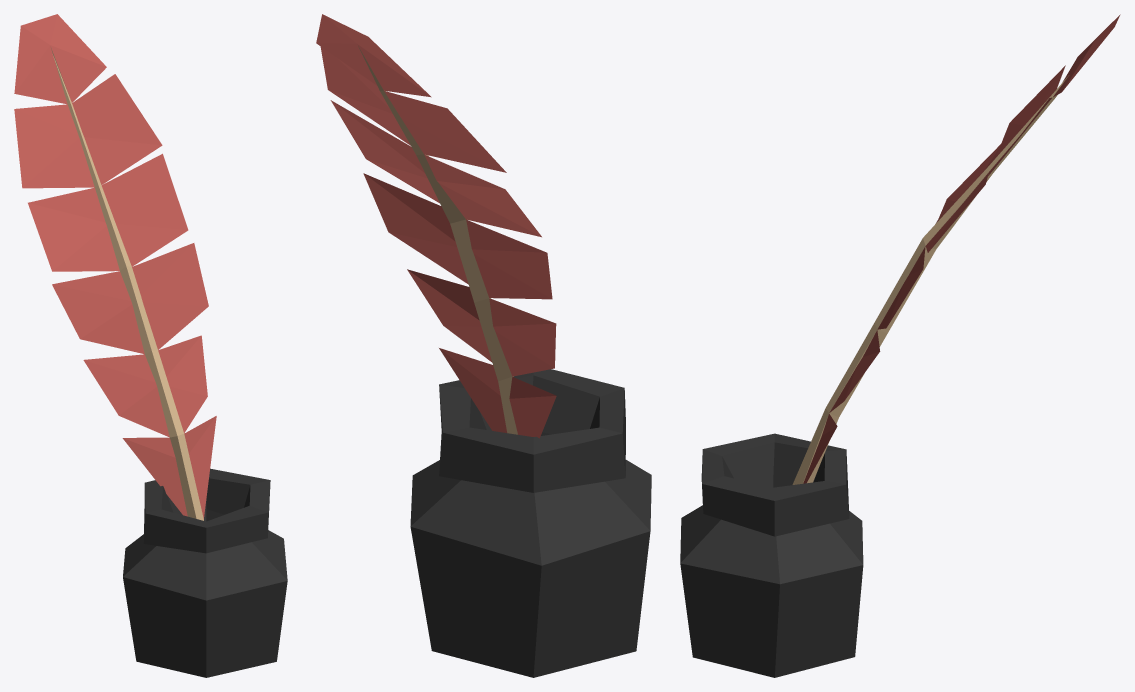
File: Inkwell.fbx
The picture shows the model from 3 angles, left to right: view 1: azimuth 30°, elevation 25°; view 2: azimuth 150°, elevation 25°; view 3: azimuth 270°, elevation 25°; orthographic projection. The views are drawn at different scales.
Visible parts, largest first — view 1: Quill, Inkwell; view 2: Inkwell, Quill; view 3: Inkwell, Quill.
Part boxes in pixels (bbox=[...]): Quill: bbox=[14, 14, 216, 520]; Inkwell: bbox=[123, 468, 287, 677]; Inkwell: bbox=[410, 369, 651, 677]; Quill: bbox=[316, 14, 556, 438]; Inkwell: bbox=[680, 433, 863, 677]; Quill: bbox=[792, 14, 1120, 484].
Bounding box in the file's own units: 0.2605 × 0.8007 × 0.525.
